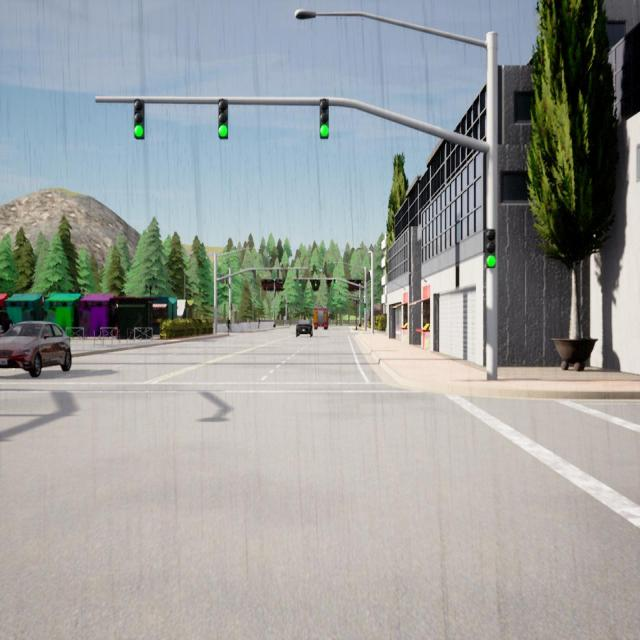Pedestrian: (226, 317, 231, 334), (257, 318, 261, 330)
Traffic_Signs: (284, 316, 286, 320)
Vehicle: (0, 321, 72, 378), (296, 319, 313, 338), (314, 307, 328, 329)
traffic_light: (484, 229, 496, 268), (319, 99, 330, 139), (134, 98, 144, 140), (218, 98, 228, 139), (277, 269, 279, 278), (296, 269, 298, 278), (254, 270, 256, 278), (366, 274, 368, 282), (220, 275, 222, 283), (222, 275, 224, 283), (299, 280, 301, 287), (364, 303, 366, 310), (368, 273, 370, 280), (334, 279, 336, 286), (315, 280, 317, 286), (231, 303, 232, 310)
